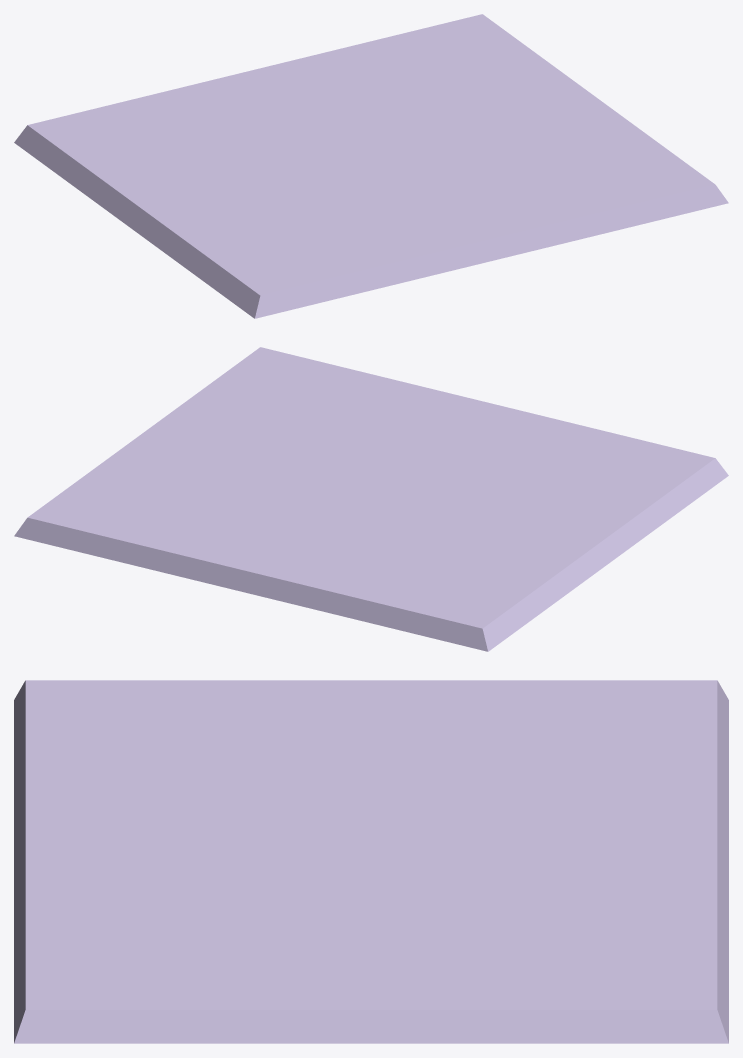
3 renders of one model, top to bottom at view 1: azimuth 30°, elevation 25°; view 2: azimuth 150°, elevation 25°; view 3: azimuth 270°, elevation 25°, orthographic. The views are drawn at different scales.
Parts seen in each view (by area): view 1: Object07; view 2: Object07; view 3: Object07.
Part boxes in pixels (<box>): Object07: <box>14,14,728,318</box>; Object07: <box>14,347,728,651</box>; Object07: <box>14,680,728,1043</box>.
Size of the model in its own units: 173 by 6.29 by 152.
